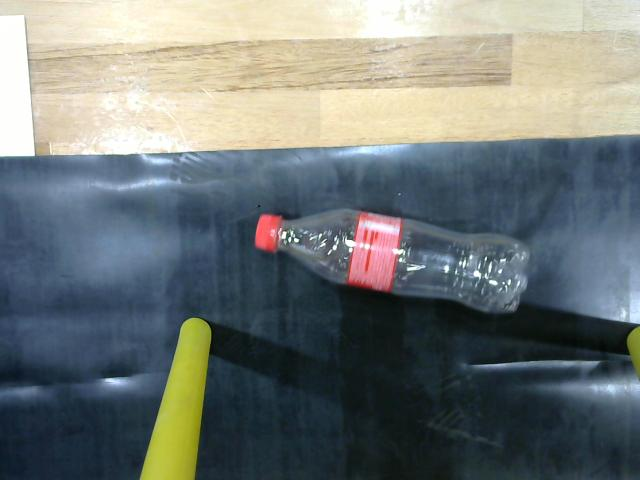bottle: (250, 198, 539, 322)
